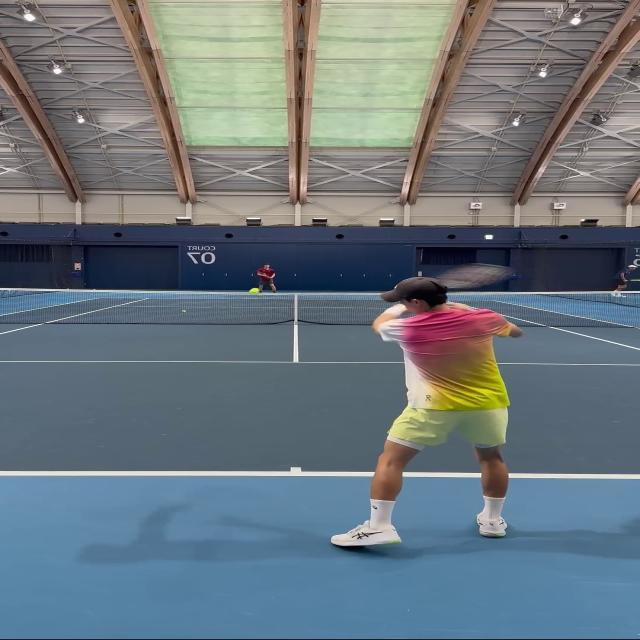tennis_ball: (251, 289, 258, 293)
